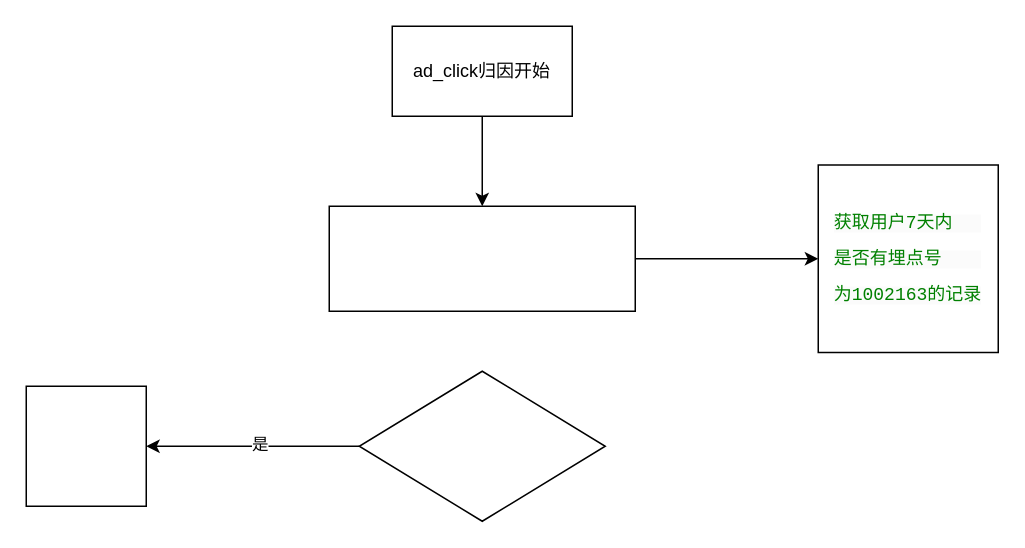
This 1025x548 diagram has some shape labels left out. The box of each missing label's shape, as (x1, y1, x2, y2) in pixels:
是否有埋点记录: (358, 370, 605, 521)
请求ads 服务: (328, 205, 635, 311)
